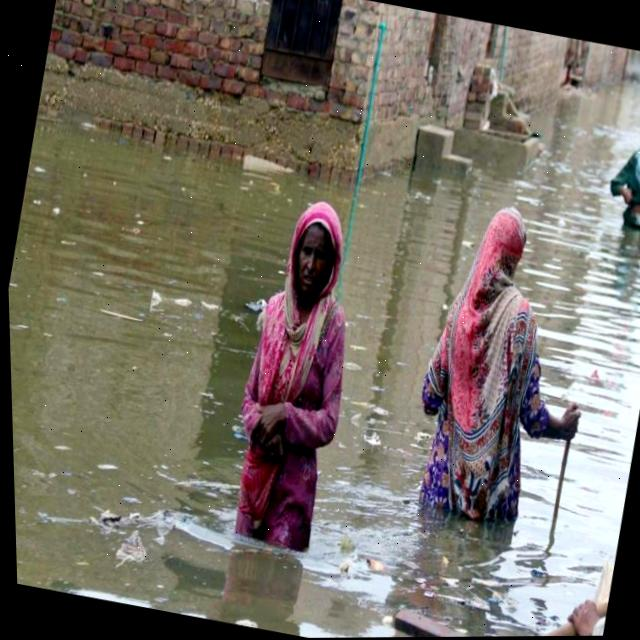civilian: (381, 189, 627, 560), (200, 183, 404, 577), (591, 106, 640, 264)
